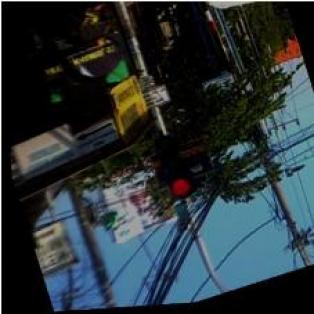Semaforo Rojo: (149, 132, 194, 208)
